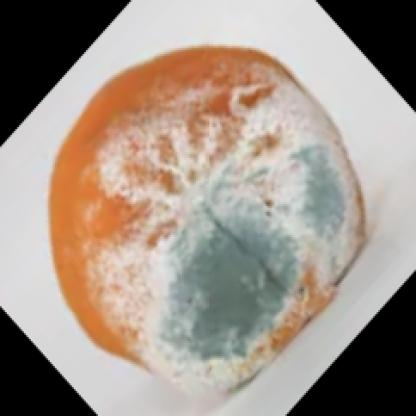rotten: (48, 47, 373, 391)
